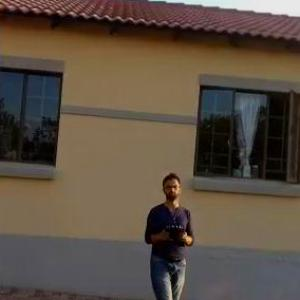follow: (139, 168, 198, 299)
